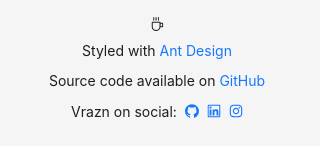
Test: Footer › should show effort spent on mouse hover
This screenshot has width=320, height=160.
Hover over the picture named "coffee" at (157, 24), box [150,17,164,31]
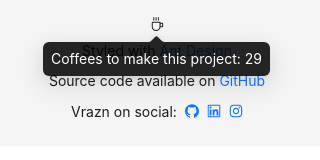
expect the tooltip "Coffees to make this project: 29" is shown: met, box [43,42,270,76]
